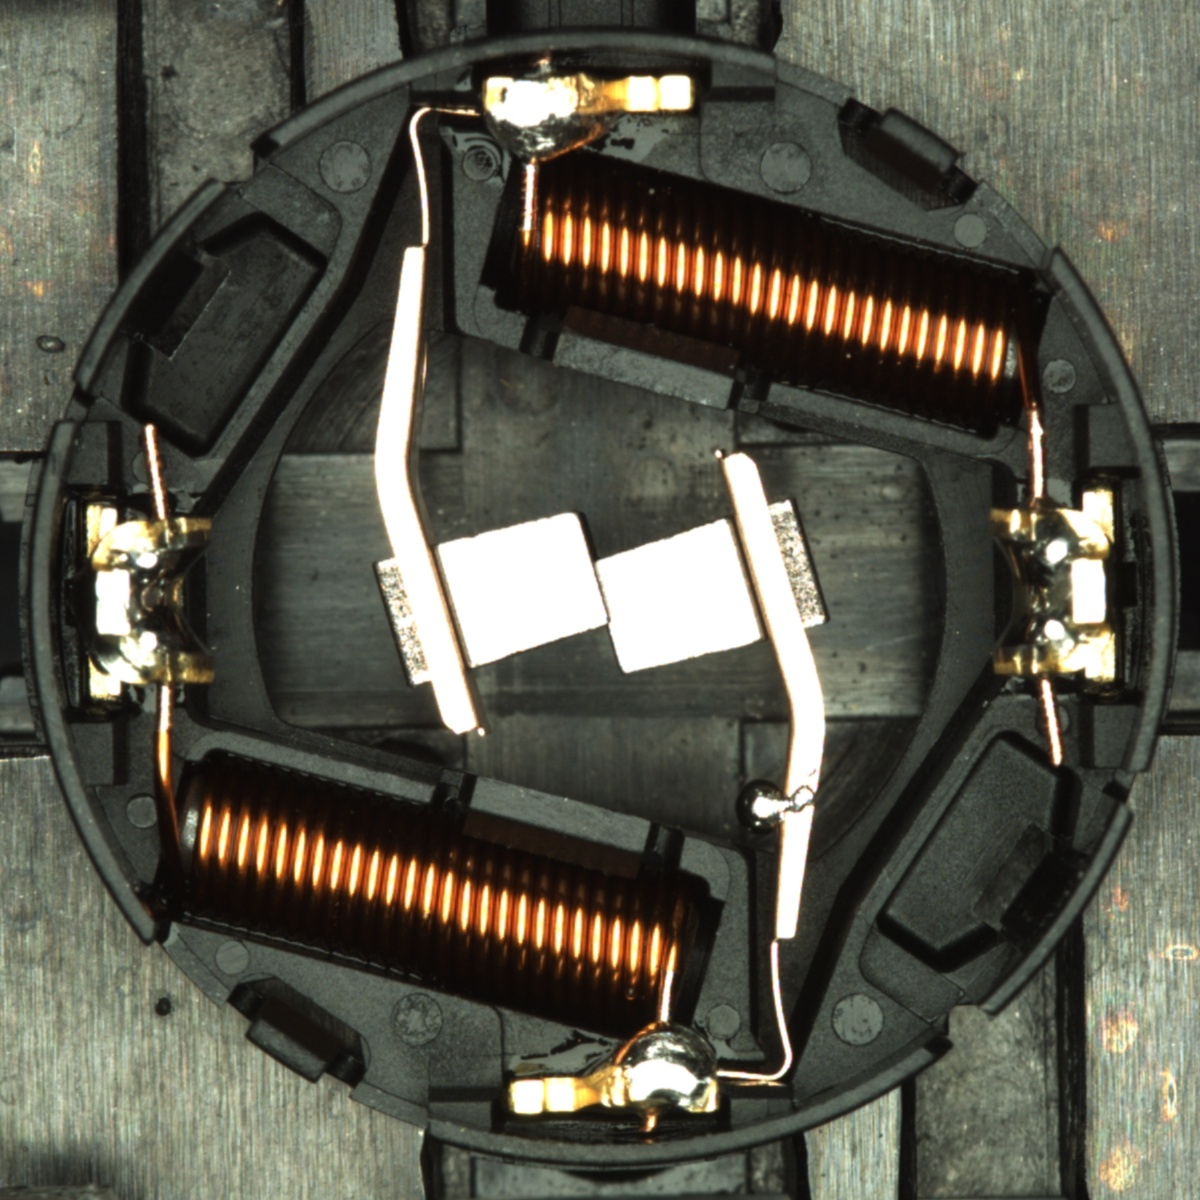1: (252, 31, 481, 255), (710, 929, 940, 1153)
2: (710, 31, 940, 255), (252, 929, 481, 1153)
3: (22, 255, 252, 480), (940, 704, 1168, 929)
4: (252, 255, 481, 480)
5: (481, 143, 710, 368), (481, 816, 710, 1041)
6: (710, 255, 940, 480), (252, 704, 481, 929)
7: (940, 255, 1168, 480), (22, 704, 252, 929)
cacbon: (392, 499, 799, 685)
chau_dien: (79, 500, 219, 701), (982, 488, 1122, 688)
hat_chi: (737, 776, 796, 834)
tay_choi: (480, 69, 699, 168), (507, 1020, 722, 1118)
thanh_de: (954, 787, 1141, 1031), (59, 165, 244, 405)
vun_chi: (734, 777, 803, 835), (785, 785, 818, 814)
